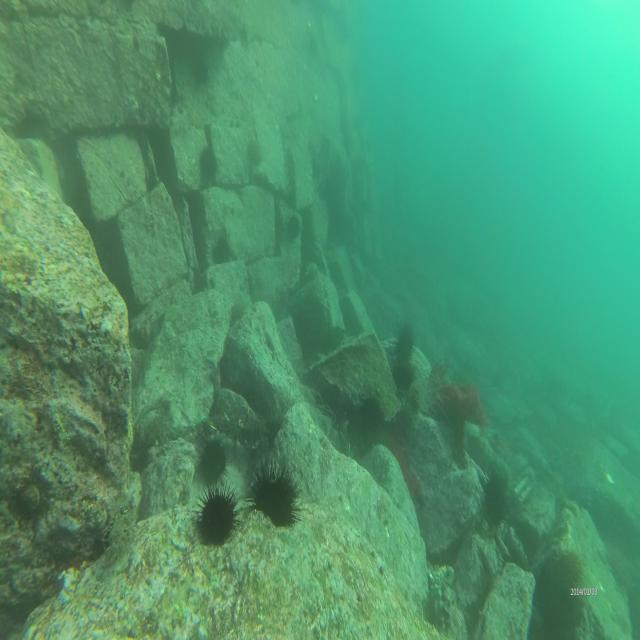echinus: (251, 461, 297, 528), (197, 489, 237, 544), (554, 546, 584, 591), (483, 476, 506, 529), (200, 437, 227, 482), (393, 323, 413, 363), (393, 360, 416, 391), (285, 214, 302, 243)
